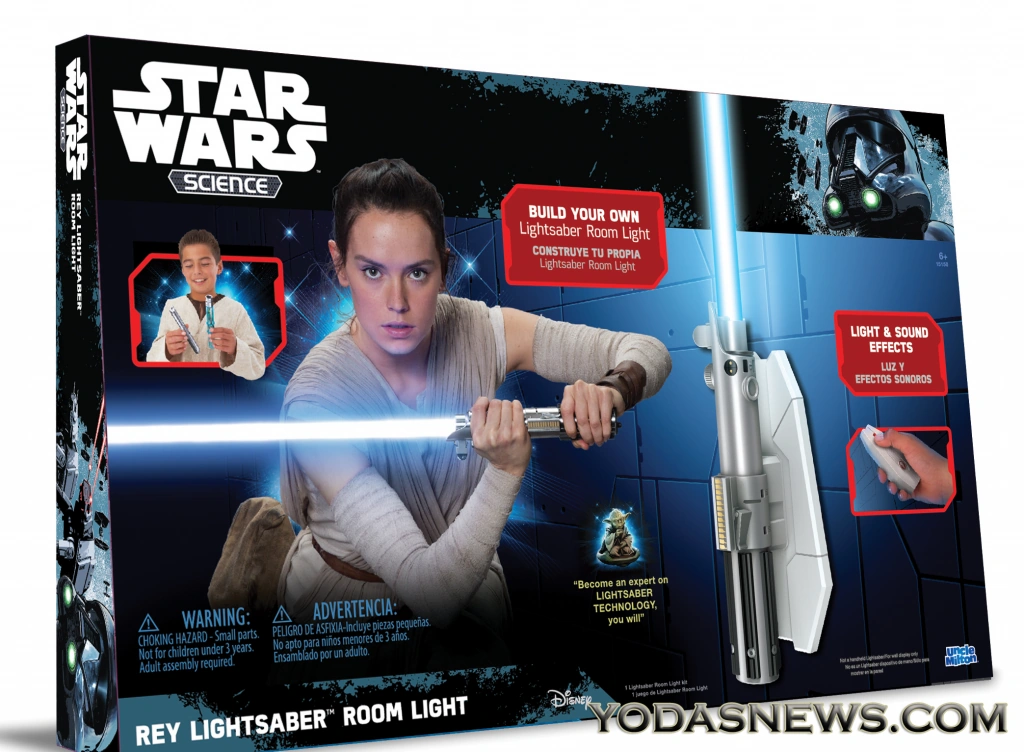Dalek: (695, 88, 786, 691), (96, 398, 619, 454)
